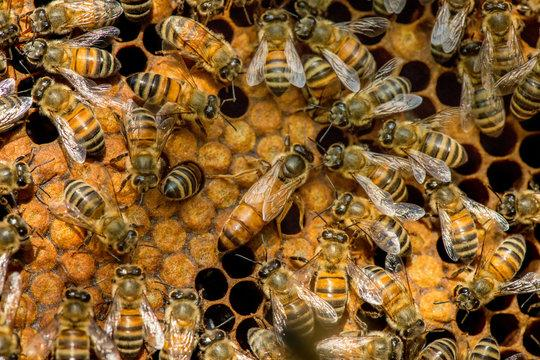Queen-Bee: (218, 137, 313, 251)
worker-bee: (31, 69, 111, 162), (443, 234, 539, 311), (294, 15, 389, 92), (425, 179, 508, 263), (303, 227, 380, 317), (50, 178, 138, 254), (328, 58, 422, 129), (27, 287, 119, 359), (258, 259, 337, 342), (378, 108, 467, 181), (351, 265, 426, 341), (156, 16, 242, 82), (105, 263, 164, 359), (120, 99, 174, 195), (246, 9, 305, 96), (23, 26, 120, 77), (322, 143, 407, 201), (458, 39, 505, 137), (126, 72, 219, 119), (480, 0, 523, 90), (20, 0, 122, 37), (319, 188, 379, 238), (159, 288, 201, 359), (382, 129, 383, 130)
